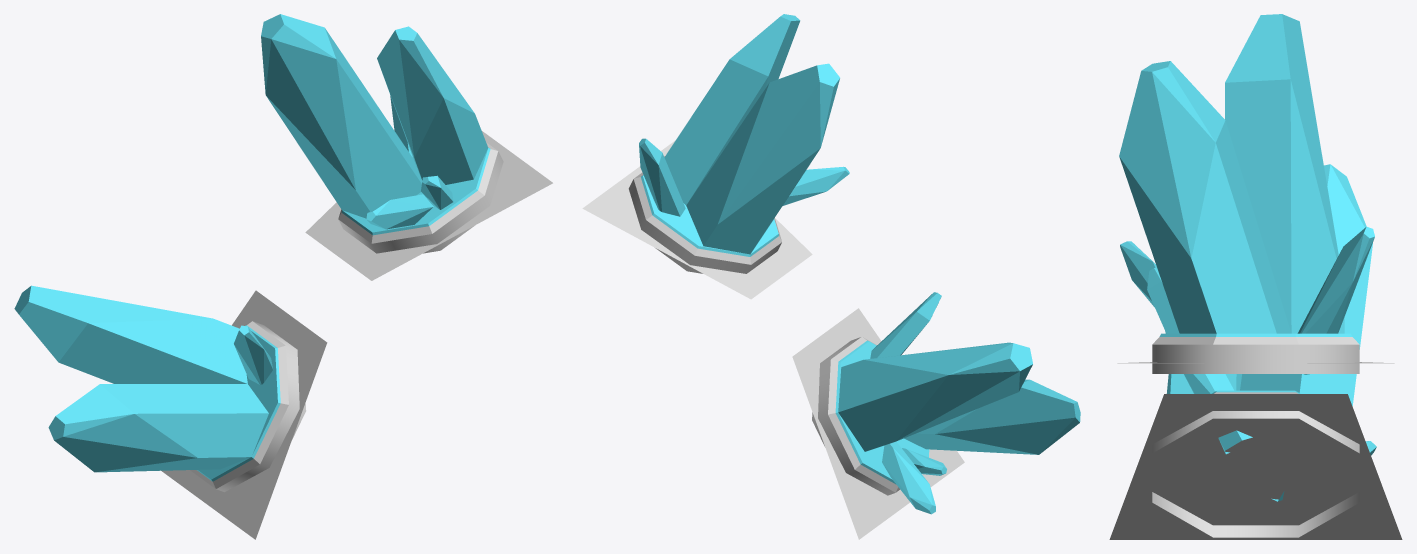
Rendered from Mod_Pauldron_R_Brains2.fbx.
The picture shows the model from 3 angles, left to right: view 1: azimuth 30°, elevation 25°; view 2: azimuth 150°, elevation 25°; view 3: azimuth 270°, elevation 25°; orthographic projection. The views are drawn at different scales.
Parts seen in each view (by area): view 1: Mod_Pauldron_R_Brains2; view 2: Mod_Pauldron_R_Brains2; view 3: Mod_Pauldron_R_Brains2.
Part boxes in pixels (left/top/right/bottom): Mod_Pauldron_R_Brains2: left=14, top=14, right=552, bottom=539; Mod_Pauldron_R_Brains2: left=582, top=14, right=1080, bottom=539; Mod_Pauldron_R_Brains2: left=1109, top=14, right=1402, bottom=539.
Bounding box in the file's own units: 337 × 317 × 144.
